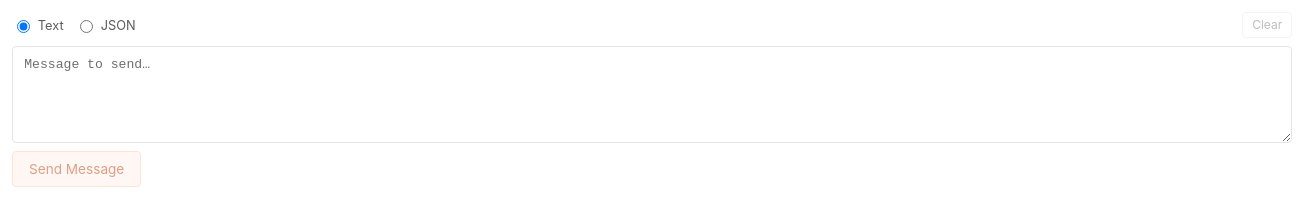
Test: MessageComposer — sending › clears the draft on demand
Type "something" into the text box at (652, 94), box [12, 46, 1292, 143]
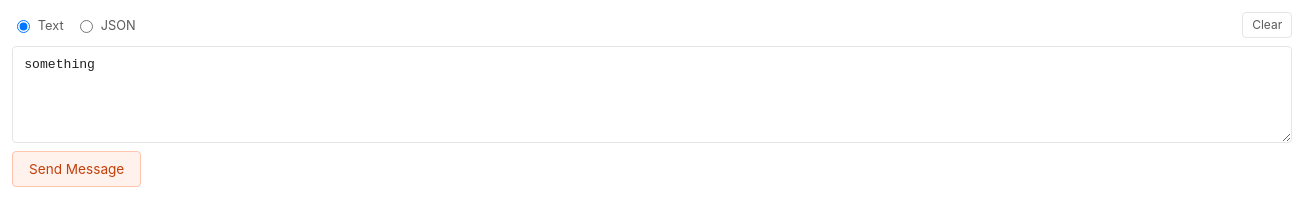
Click the button "Clear" at (1267, 25), box [1242, 12, 1292, 38]
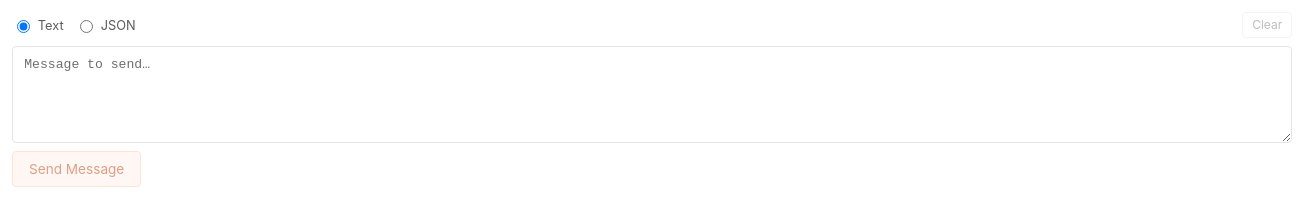
Result: the text box is empty at [12, 46, 1292, 143]
